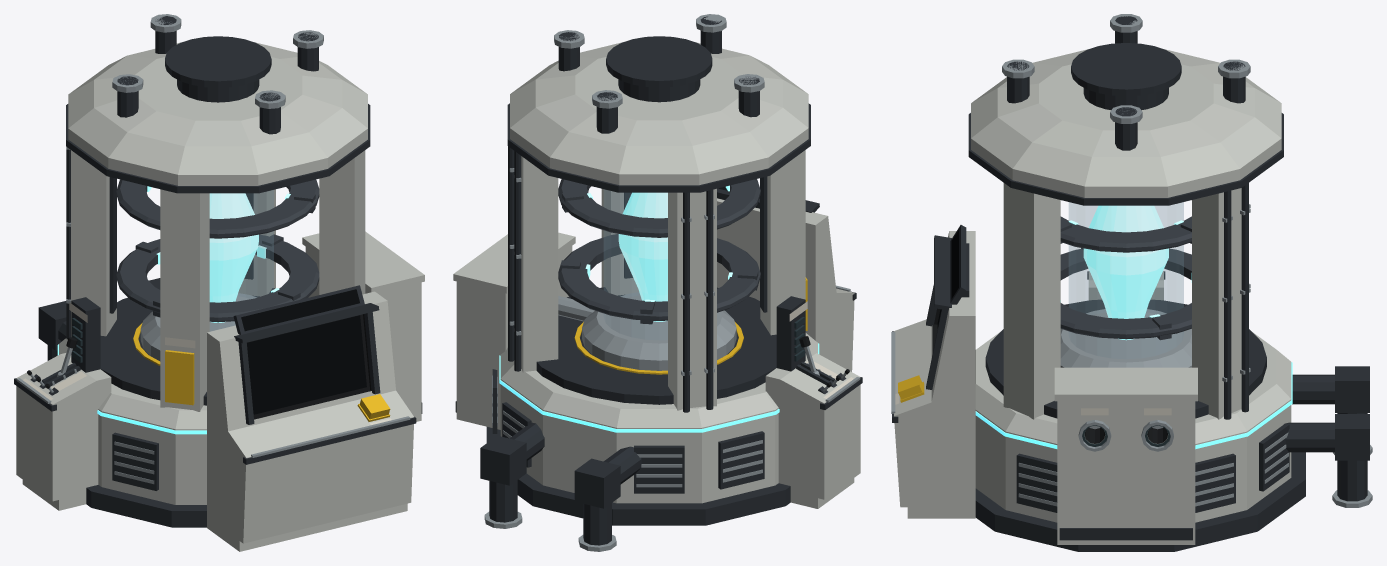
Rendered from reactor.glb.
3 renders of one model, left to right at view 1: azimuth 30°, elevation 25°; view 2: azimuth 150°, elevation 25°; view 3: azimuth 270°, elevation 25°, orthographic. The views are drawn at different scales.
Visible parts, largest first — view 1: reactor_body, screen_main, ring_1, core_glass, ring_2, core_glow, screen_supply, cover_eject, cover_scram; view 2: reactor_body, core_glass, ring_1, ring_2, core_glow; view 3: reactor_body, core_glass, core_glow, ring_1, ring_2.
Part boxes in pixels (x1,y1,x2,y2): reactor_body: [14, 14, 424, 551]; screen_main: [247, 315, 366, 414]; ring_1: [116, 234, 319, 322]; core_glass: [210, 190, 273, 330]; ring_2: [116, 179, 319, 238]; core_glow: [209, 193, 258, 322]; screen_supply: [241, 289, 359, 331]; cover_eject: [165, 350, 194, 405]; cover_scram: [359, 394, 390, 419]; reactor_body: [453, 14, 862, 551]; core_glass: [604, 189, 667, 339]; ring_1: [558, 234, 760, 324]; ring_2: [558, 179, 760, 237]; core_glow: [618, 192, 667, 321]; reactor_body: [891, 14, 1372, 551]; core_glass: [1069, 202, 1183, 358]; core_glow: [1083, 205, 1168, 340]; ring_1: [1060, 248, 1191, 340]; ring_2: [1060, 216, 1191, 252].
Bounding box in the file's own units: 3.43 × 3.62 × 3.83.
